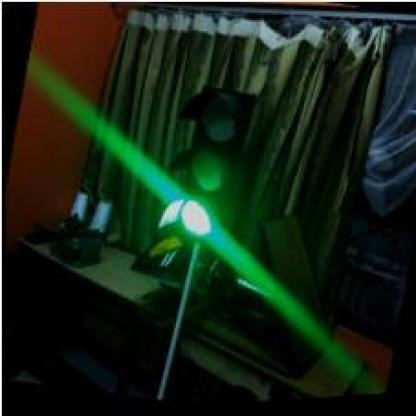green: (155, 83, 256, 254)
